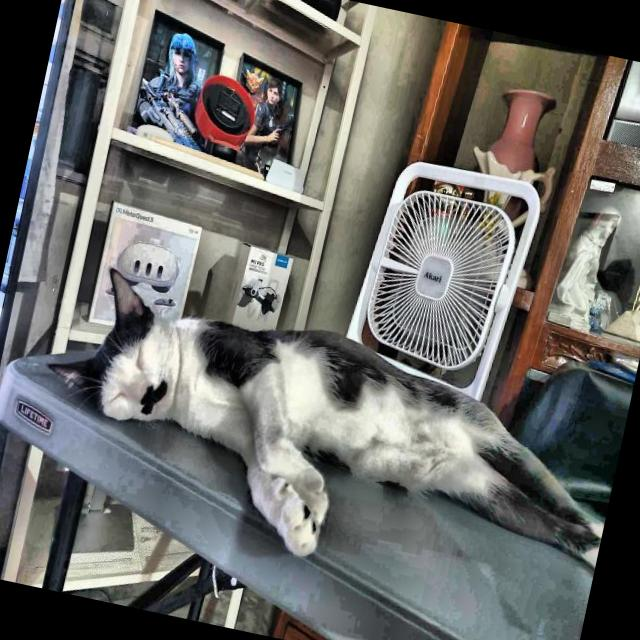Healthy skin: (303, 355, 455, 476)
